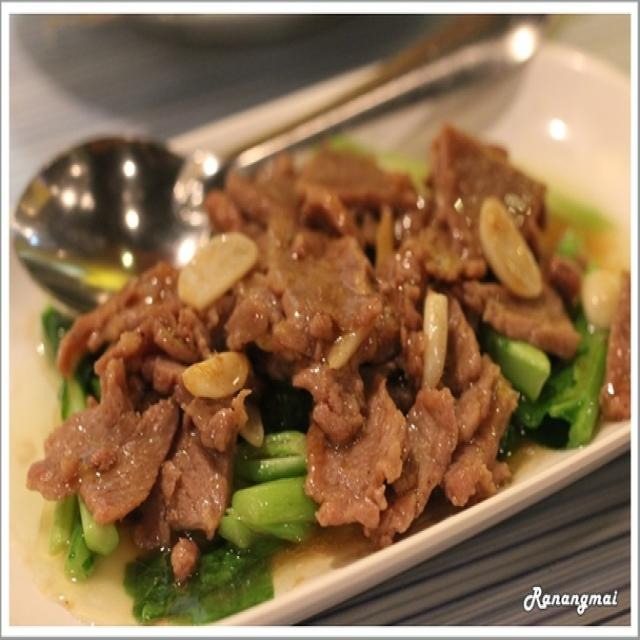牛肉菜式: (25, 47, 623, 604)
